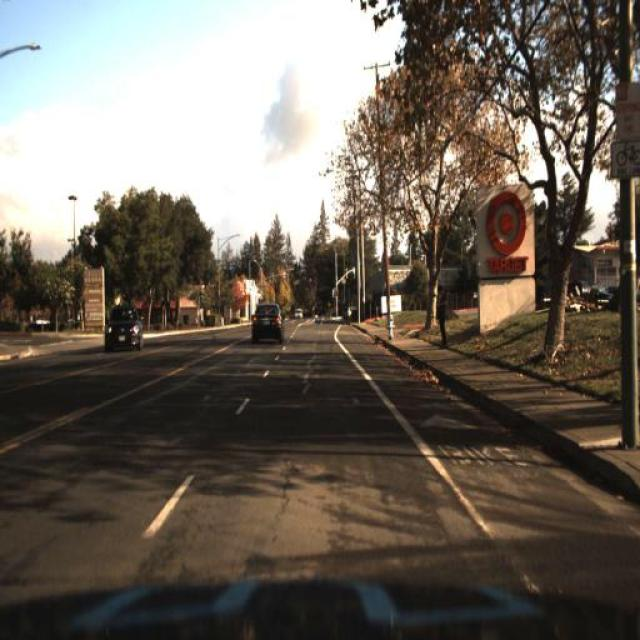car: (100, 301, 146, 349), (252, 296, 283, 346), (340, 302, 361, 323), (293, 302, 305, 322)
trafficLight: (438, 282, 457, 351)
trafficLight-RedLeft: (307, 270, 314, 290)
